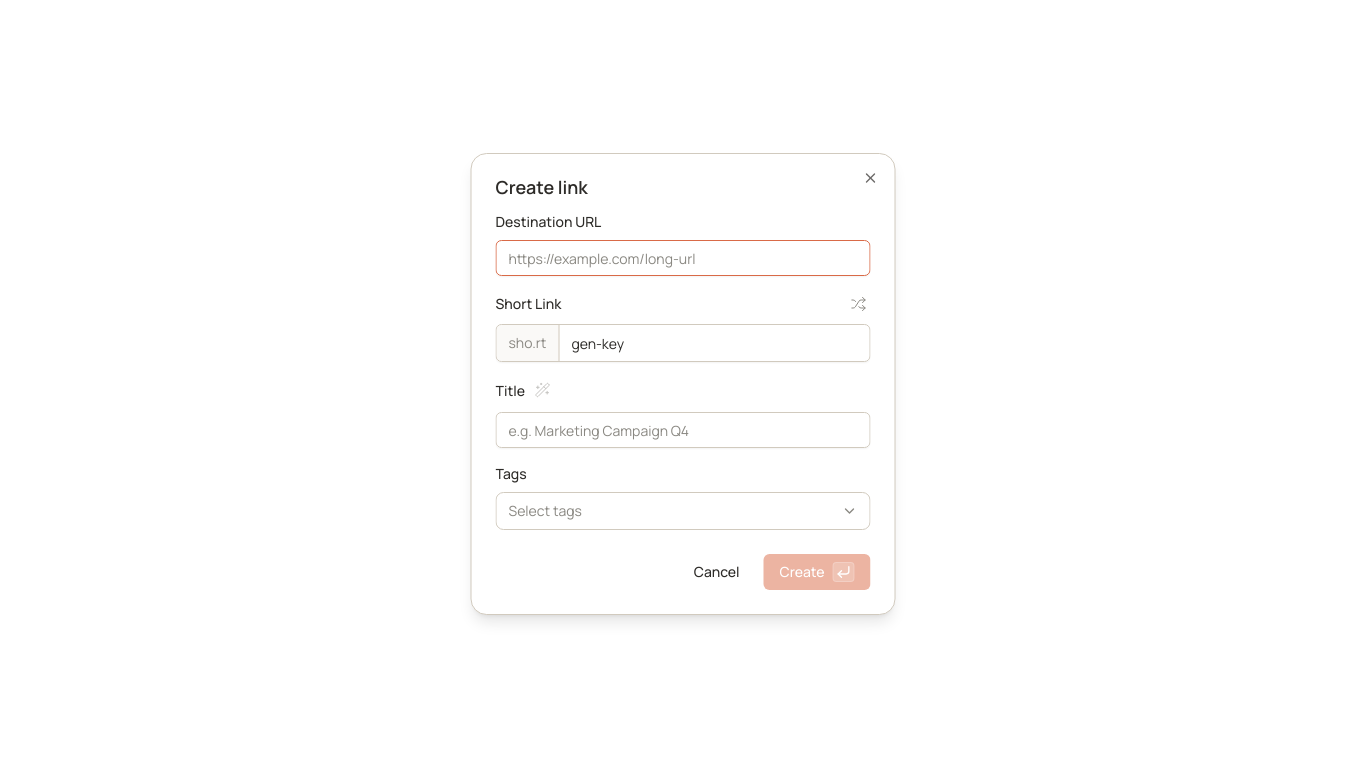
Test: CreateLinkModal › tells the user when the short key is already taken and stays on the form
Type "https://example.com/article" into the field labelled "Destination URL".
click(683, 258); type("https://example.com/article")  # box [496,240,870,276]
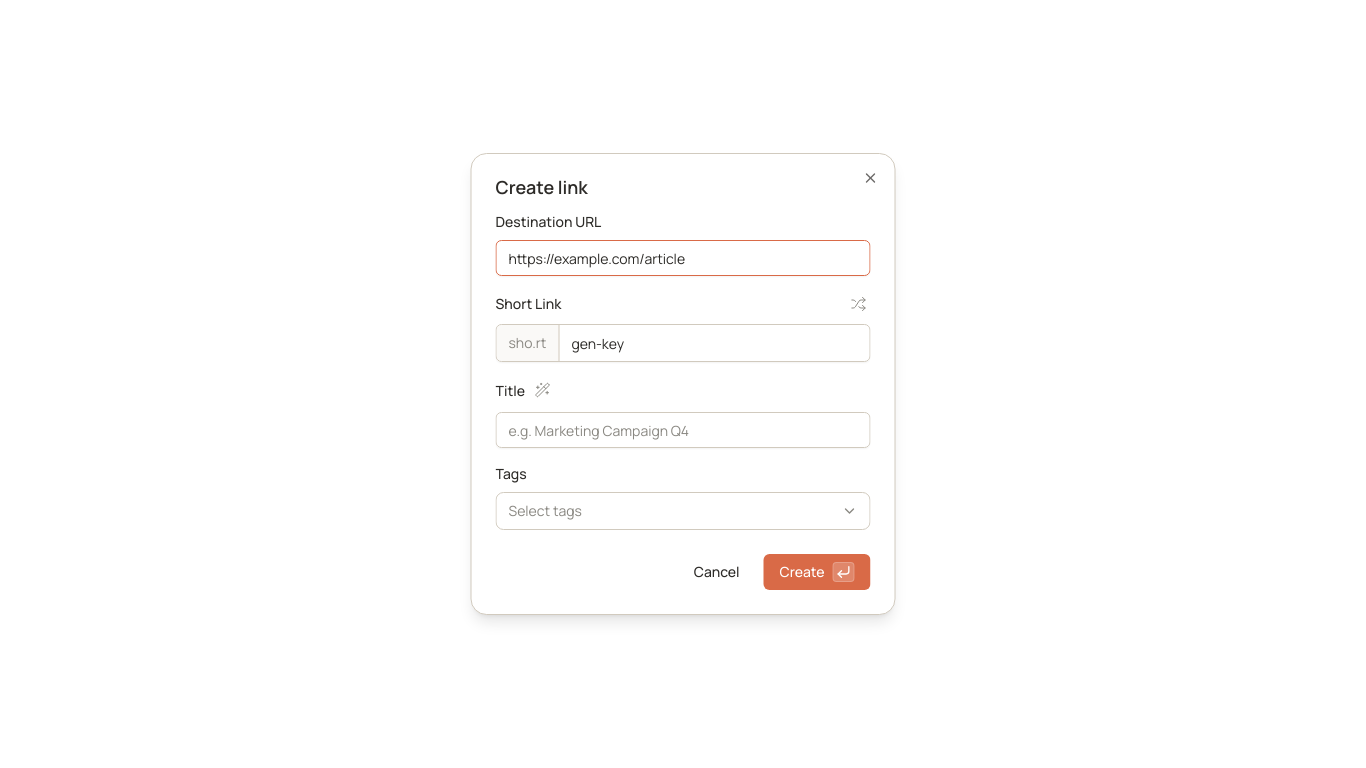
Check: the field labelled "Short Link" holds "gen-key", box [559,325,870,361]
Click the button "Create".
click(817, 572)  # box [764,554,870,590]
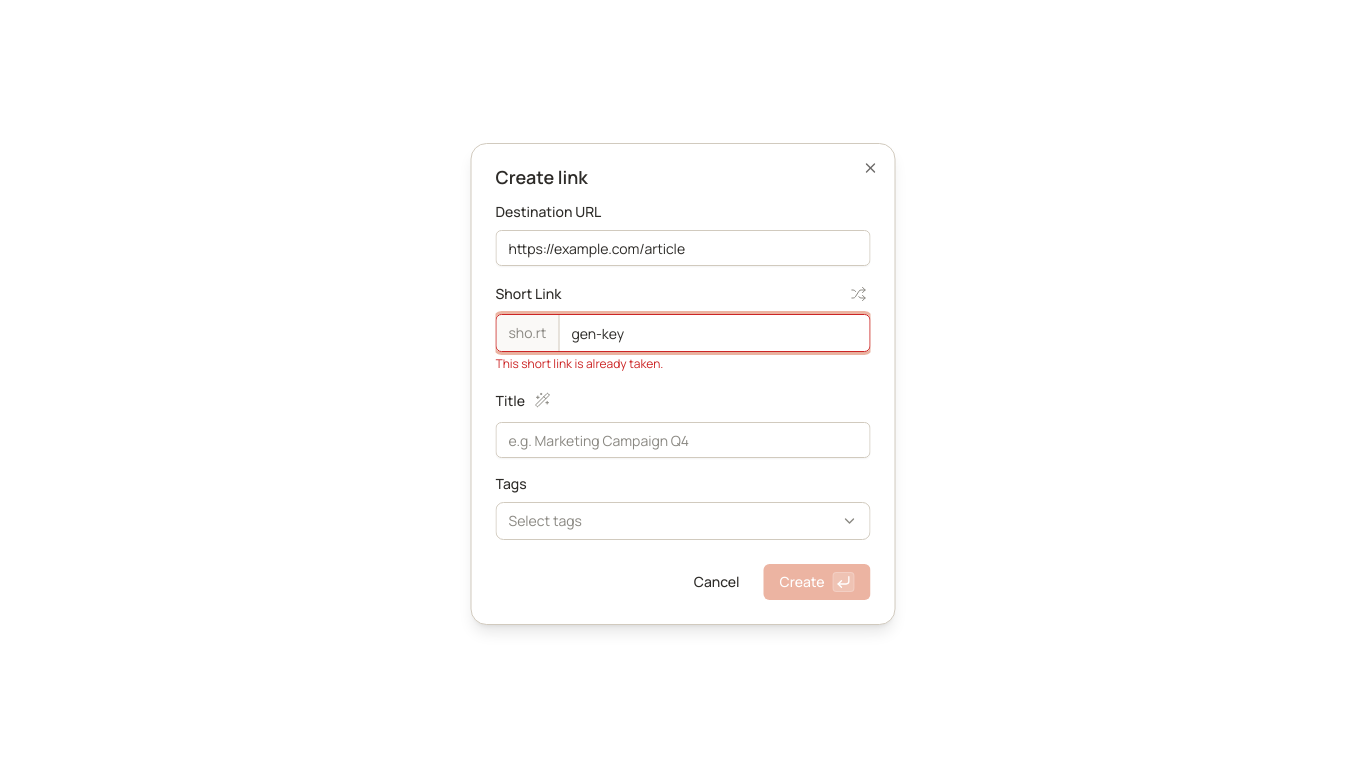
Check: the text "This short link is already taken." is shown, box [496,355,663,372]
